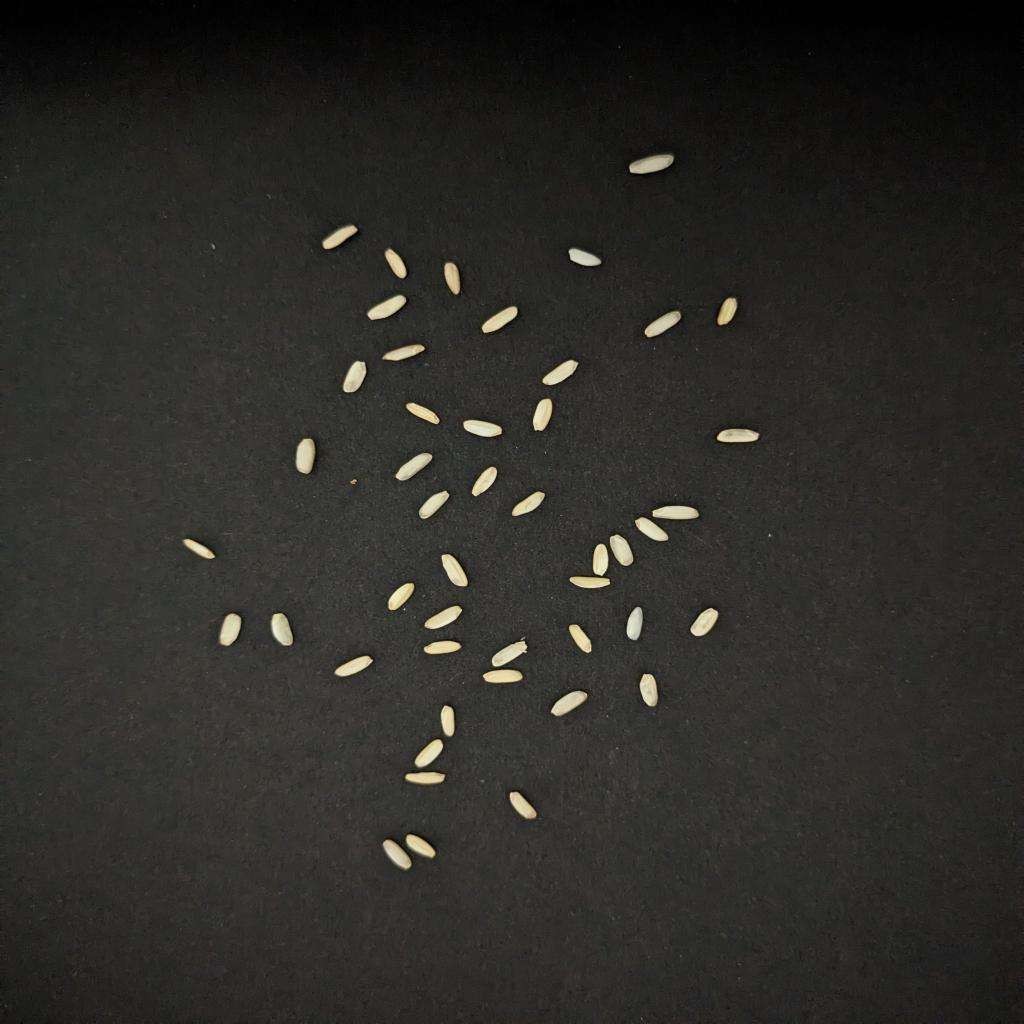chalky: (368, 294, 408, 320), (645, 310, 682, 338), (551, 690, 589, 716), (397, 452, 432, 480), (381, 840, 413, 870), (493, 640, 527, 668), (424, 606, 463, 630), (322, 224, 357, 250), (482, 306, 517, 332), (543, 360, 578, 386), (629, 154, 674, 174), (418, 492, 450, 520), (416, 738, 445, 768), (442, 554, 469, 586), (634, 518, 669, 542), (511, 492, 546, 516), (690, 608, 719, 636), (509, 792, 538, 820), (471, 466, 498, 496), (333, 656, 373, 676), (610, 534, 634, 566), (405, 834, 437, 858), (218, 614, 242, 646), (296, 438, 317, 474), (389, 582, 416, 610), (405, 402, 439, 424), (384, 248, 408, 278), (384, 344, 424, 362), (344, 362, 368, 392), (463, 420, 503, 438), (272, 612, 293, 646), (533, 398, 554, 430), (653, 506, 701, 520), (626, 606, 645, 640), (184, 538, 216, 558), (567, 248, 602, 266), (591, 544, 610, 576), (639, 674, 658, 706), (717, 298, 738, 326), (717, 428, 759, 442), (570, 624, 591, 652), (482, 670, 522, 684), (424, 640, 461, 654), (445, 262, 461, 294), (570, 576, 610, 588), (439, 706, 455, 736), (405, 772, 445, 784)
